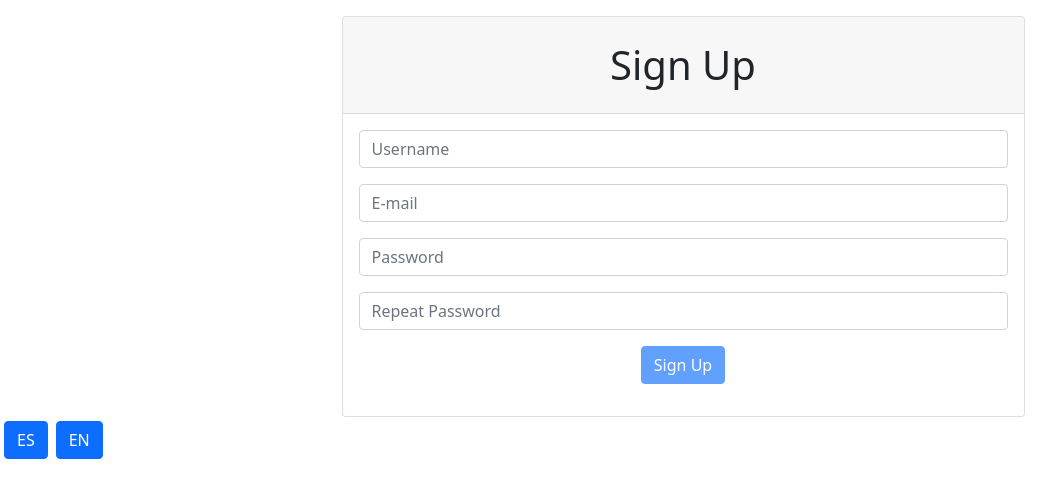
Test: Sign Up Page › Internationalization › displays password mismatch valitarion in spanish
This screenshot has width=1042, height=501.
Click the button titled "español" at (26, 440), box 4,421 -> 48,459
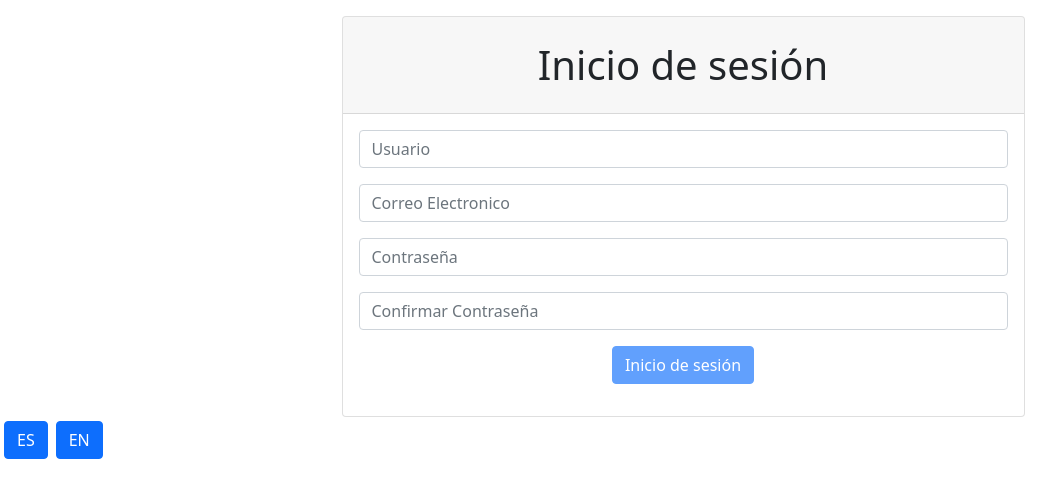
Type "P4ss" into the password field with placeholder "Contraseña" at (683, 257), box 358,238 -> 1008,276
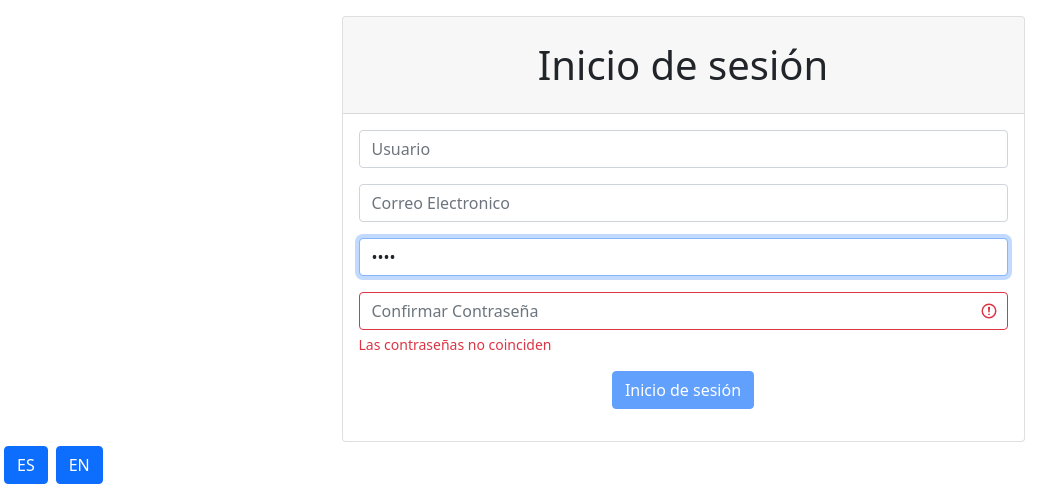
Expected: the text "Las contraseñas no coinciden" is shown, 358,335 -> 552,354
